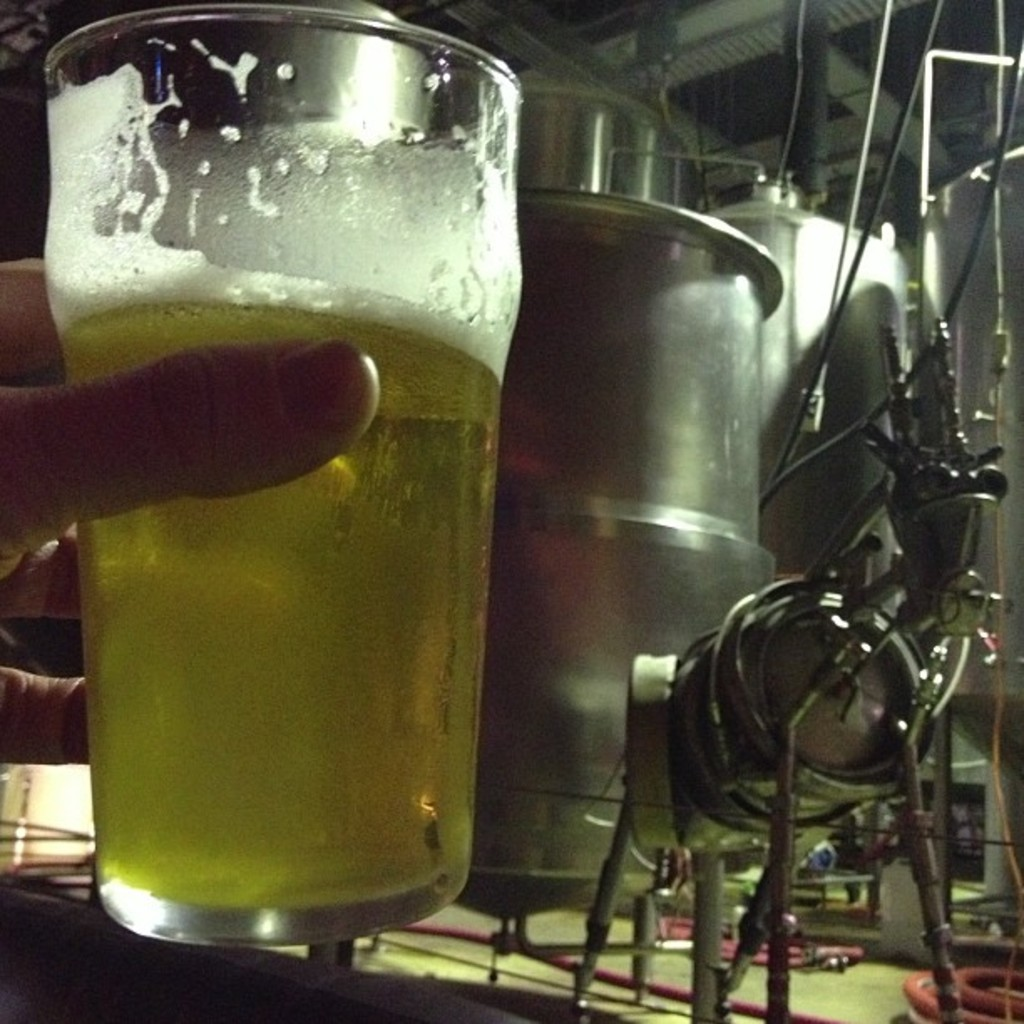Beer: (55, 286, 501, 918)
